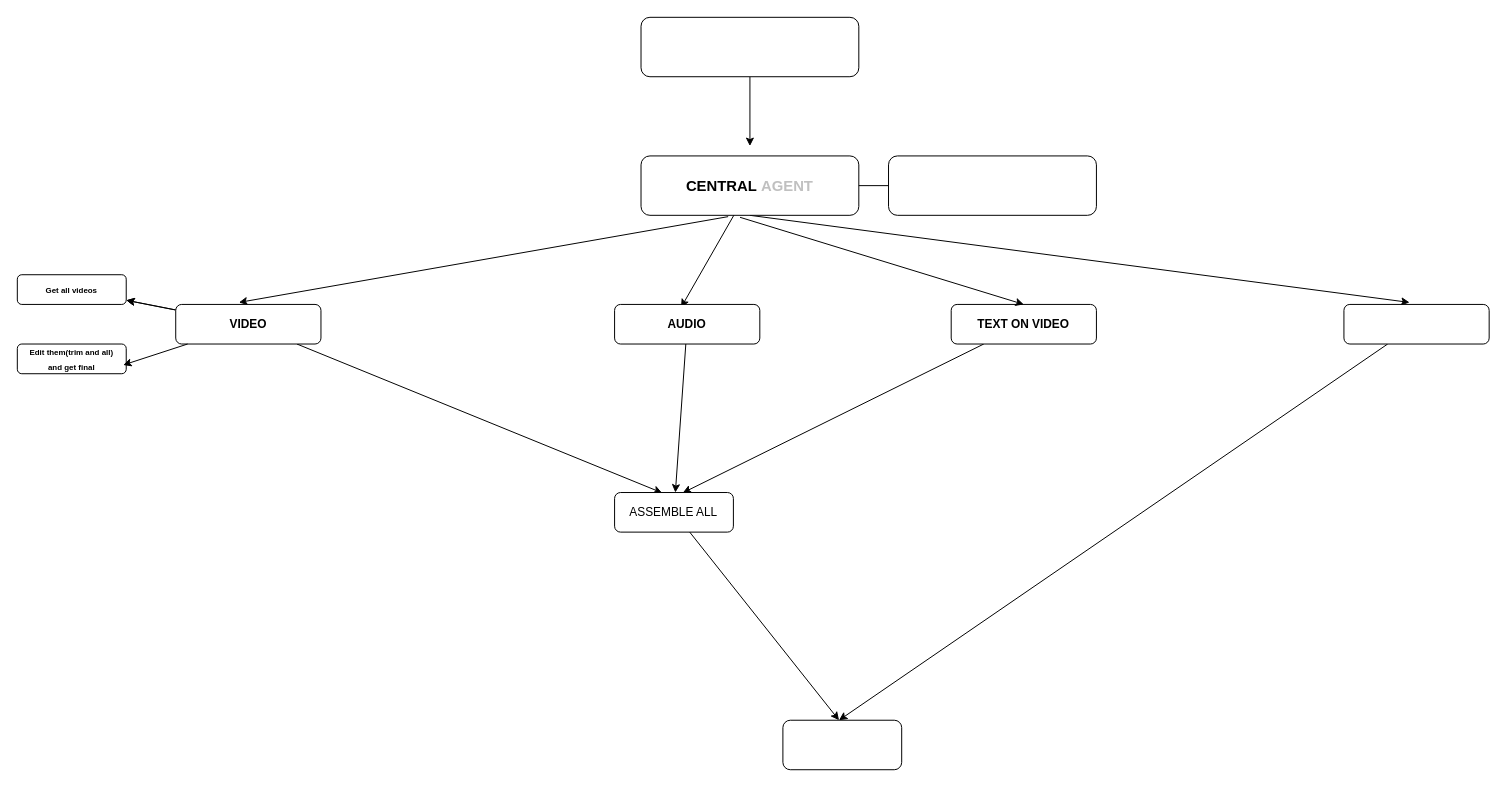
This 1507x787 diagram has some shape labels left out. Each missing label, with the centre of its shape:
CAPTION: point 1416,323
DECIDE WHAT TO DO AND BRAKE ALL TASKS AND DEVIDE: point 992,185
IDEA: point 749,46
RESULT: point 842,744
